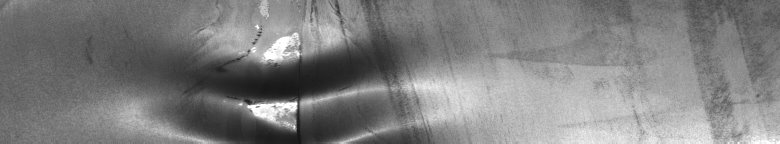ke: (176, 4, 428, 136)
